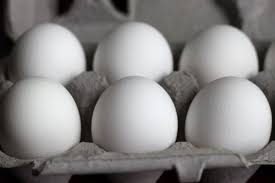eggs: (105, 73, 190, 161), (11, 67, 88, 158), (190, 7, 275, 83), (96, 8, 181, 83), (199, 70, 263, 153), (18, 16, 86, 81)
